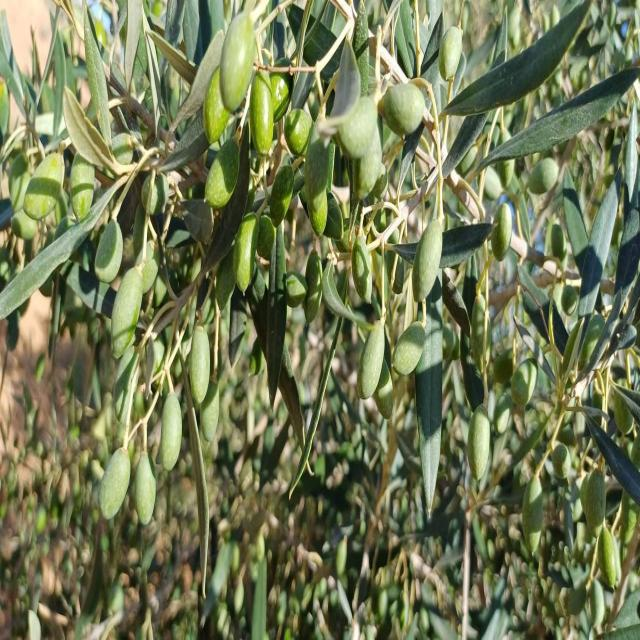Healthy: (220, 10, 256, 112), (111, 265, 143, 358), (23, 151, 64, 222), (378, 82, 426, 137), (412, 219, 442, 303), (204, 140, 240, 209), (98, 449, 130, 520), (249, 67, 274, 157), (358, 321, 385, 399), (233, 213, 258, 293), (392, 322, 426, 379), (94, 218, 122, 282), (159, 393, 182, 470), (189, 325, 210, 408), (468, 405, 490, 482), (269, 164, 294, 228), (303, 248, 323, 325), (135, 452, 156, 525), (352, 234, 372, 303), (438, 26, 462, 82), (597, 526, 617, 592), (490, 203, 512, 260)
